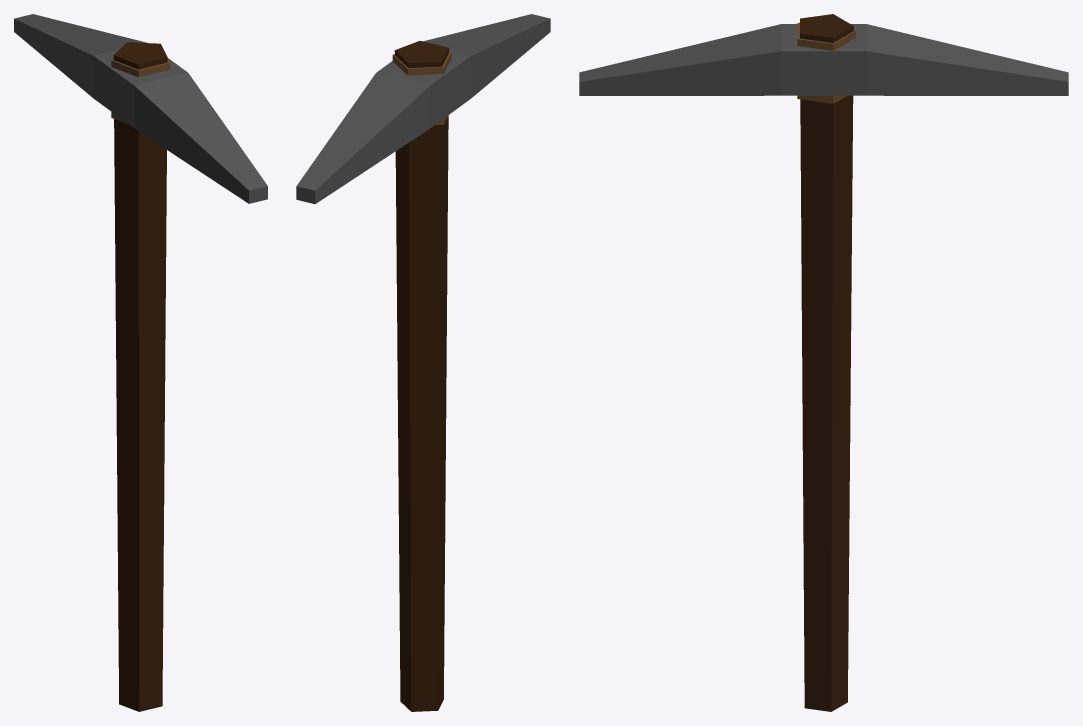
The model's file is pickaxe .fbx.
3 views of the same model, side by side, from view 1: azimuth 30°, elevation 25°; view 2: azimuth 150°, elevation 25°; view 3: azimuth 270°, elevation 25° (orthographic). The views are drawn at different scales.
Parts seen in each view (by area): view 1: pickaxe handle, pickaxe head, bronze ring; view 2: pickaxe handle, pickaxe head, bronze ring; view 3: pickaxe handle, pickaxe head, bronze ring.
Part boxes in pixels (x1,y1,x2,y2): pickaxe handle: [113, 42, 167, 711]; pickaxe head: [14, 14, 267, 203]; bronze ring: [111, 58, 170, 124]; pickaxe handle: [394, 41, 448, 711]; pickaxe head: [296, 14, 550, 204]; bronze ring: [392, 51, 451, 124]; pickaxe handle: [800, 14, 853, 711]; pickaxe head: [579, 24, 1068, 95]; bronze ring: [797, 22, 855, 103].
Size of the model in its own units: 23.55 by 272 by 178.
